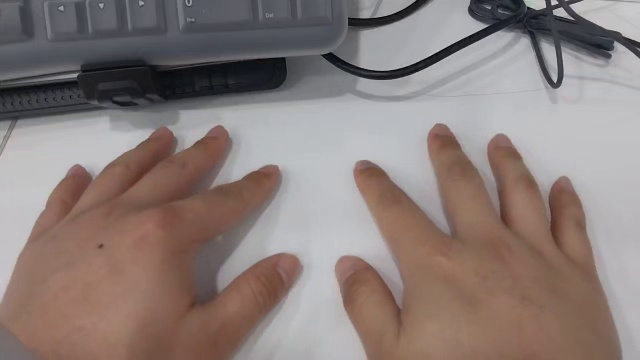fingers: (275, 251, 304, 290), (333, 253, 357, 285), (205, 124, 227, 142), (148, 125, 168, 142), (557, 175, 573, 193), (430, 122, 450, 136), (492, 133, 513, 146), (64, 163, 80, 179), (259, 163, 280, 174), (354, 159, 375, 170)
